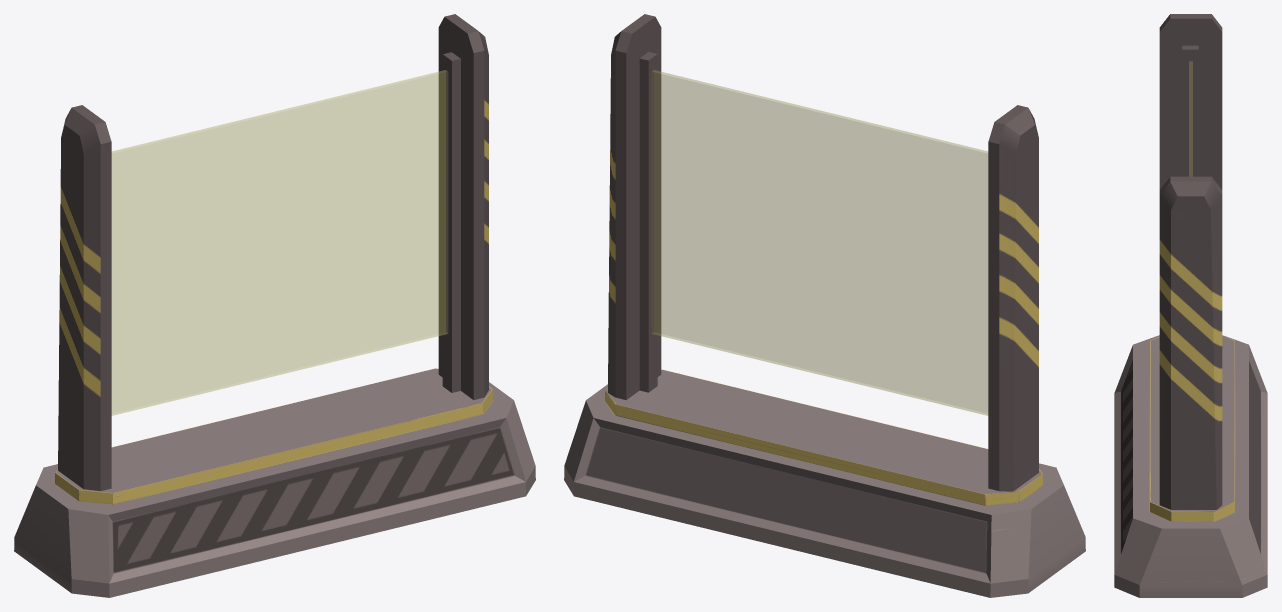
File: Fence.fbx
3 renders of one model, left to right at view 1: azimuth 30°, elevation 25°; view 2: azimuth 150°, elevation 25°; view 3: azimuth 270°, elevation 25°, orthographic. The views are drawn at different scales.
Visible parts, largest first — view 1: pCube6; view 2: pCube6; view 3: pCube6.
Part boxes in pixels (x1,y1,x2,y2): pCube6: [14, 14, 535, 597]; pCube6: [564, 14, 1085, 597]; pCube6: [1114, 14, 1267, 597].
Size of the model in its own units: 21.7 by 19.95 by 6.94.
Materials: 2 (1 with a texture image).
